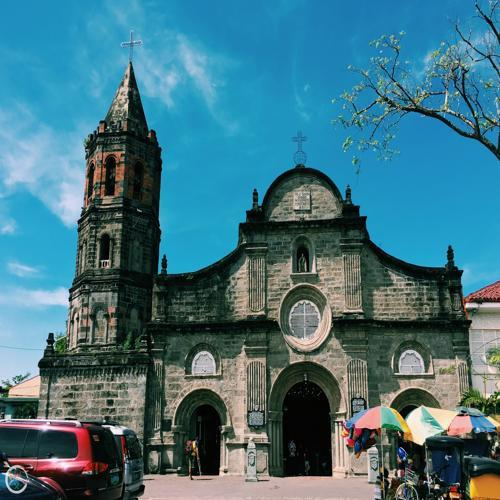Barasoain Church: (41, 27, 478, 490)
